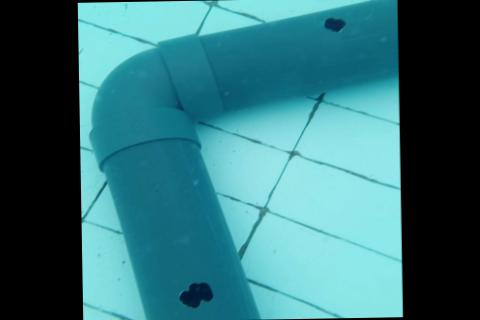kebocoran: (176, 279, 214, 307), (322, 16, 345, 32)
